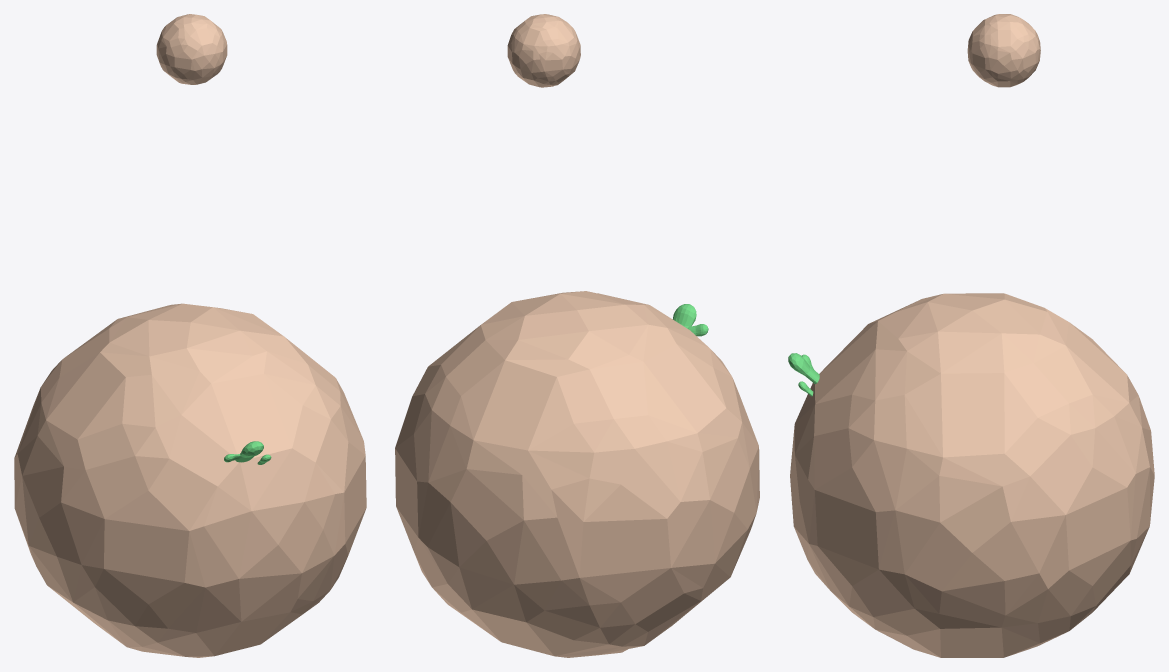
File: planetv2.glb
The picture shows the model from 3 angles, left to right: view 1: azimuth 30°, elevation 25°; view 2: azimuth 150°, elevation 25°; view 3: azimuth 270°, elevation 25°; orthographic projection. The views are drawn at different scales.
Visible parts, largest first — view 1: Mball.001, Mball.004; view 2: Mball.001, Mball.004; view 3: Mball.001, Mball.004.
Part boxes in pixels (bbox=[...]): Mball.001: bbox=[14, 303, 366, 657]; Mball.004: bbox=[156, 14, 227, 84]; Mball.001: bbox=[395, 291, 759, 657]; Mball.004: bbox=[507, 14, 580, 87]; Mball.001: bbox=[790, 293, 1154, 657]; Mball.004: bbox=[967, 14, 1040, 87].
Size of the model in its own units: 2.25 by 4.3 by 2.26.
